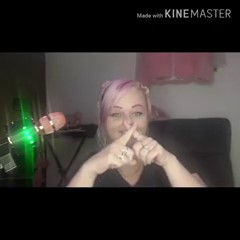X: (88, 119, 169, 177)
